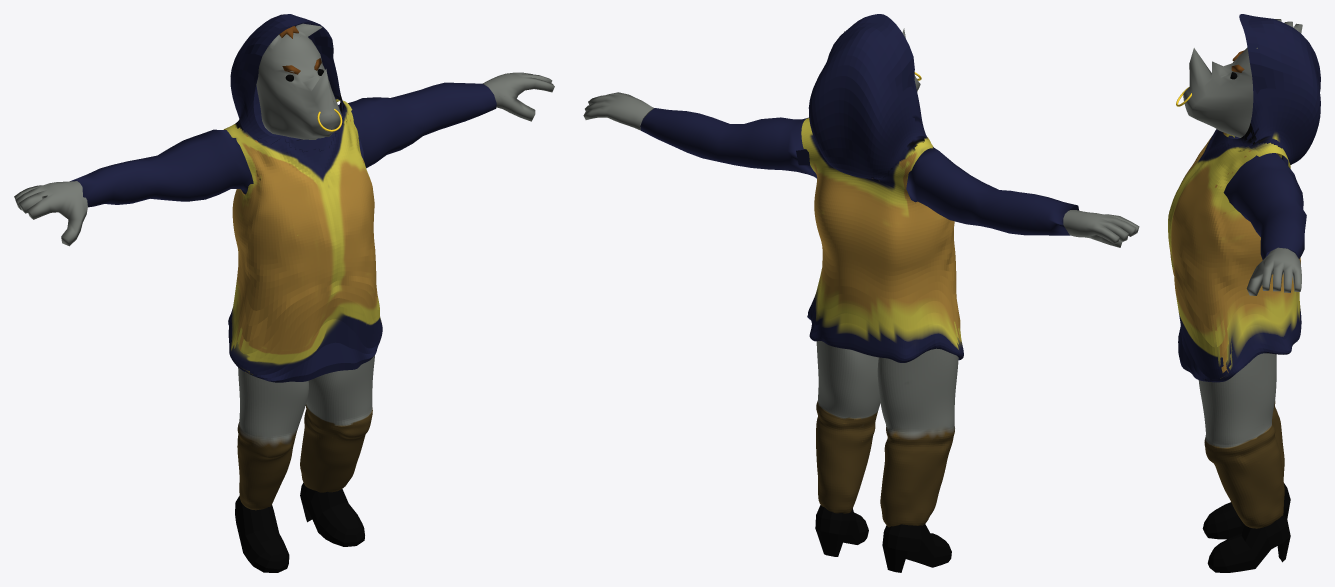
File: personaje propio 1 ropa.fbx
3 views of the same model, side by side, from view 1: azimuth 30°, elevation 25°; view 2: azimuth 150°, elevation 25°; view 3: azimuth 270°, elevation 25° (orthographic). The views are drawn at different scales.
Parts seen in each view (by area): view 1: Gorro, Body_Arms, Body_Legs, CABEZA RINOCERONTE, Body_Feet, Body_Hands; view 2: Gorro, Body_Legs, Body_Arms, Body_Feet, Body_Hands; view 3: Gorro, Body_Legs, Body_Arms, CABEZA RINOCERONTE, Body_Feet, Body_Hands.
Part boxes in pixels (x1,y1,x2,y2): Gorro: [223, 14, 382, 382]; Body_Arms: [70, 82, 496, 207]; Body_Legs: [237, 355, 374, 510]; CABEZA RINOCERONTE: [256, 23, 342, 139]; Body_Feet: [235, 483, 364, 572]; Body_Hands: [14, 72, 554, 246]; Gorro: [801, 14, 963, 362]; Body_Legs: [816, 341, 958, 527]; Body_Arms: [640, 108, 1078, 235]; Body_Feet: [815, 505, 951, 572]; Body_Hands: [583, 92, 1139, 247]; Gorro: [1168, 14, 1320, 382]; Body_Legs: [1198, 353, 1284, 528]; Body_Arms: [1223, 135, 1306, 259]; CABEZA RINOCERONTE: [1183, 47, 1257, 137]; Body_Feet: [1202, 483, 1290, 572]; Body_Hands: [1246, 19, 1302, 295].
Size of the model in its own units: 200 by 190 by 49.02.
10 materials, 7 textured.
